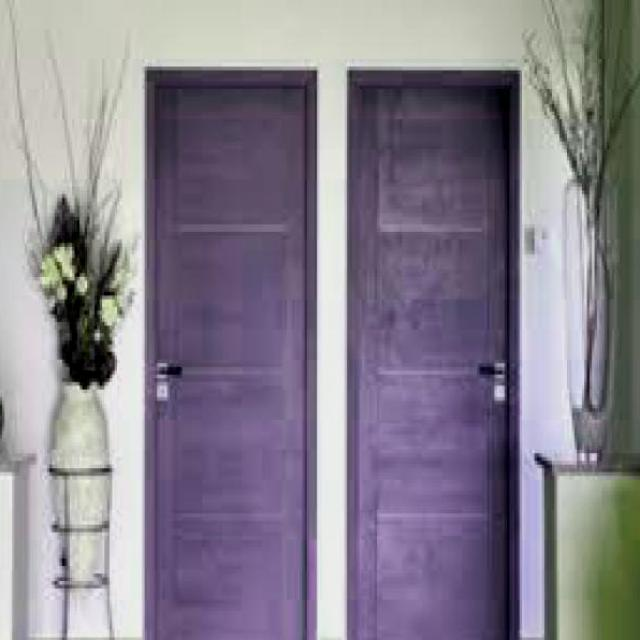door: (344, 62, 522, 640), (143, 67, 314, 638)
